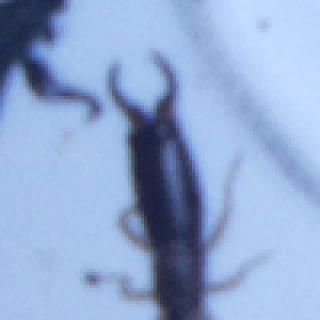earwig: (104, 47, 274, 320)
